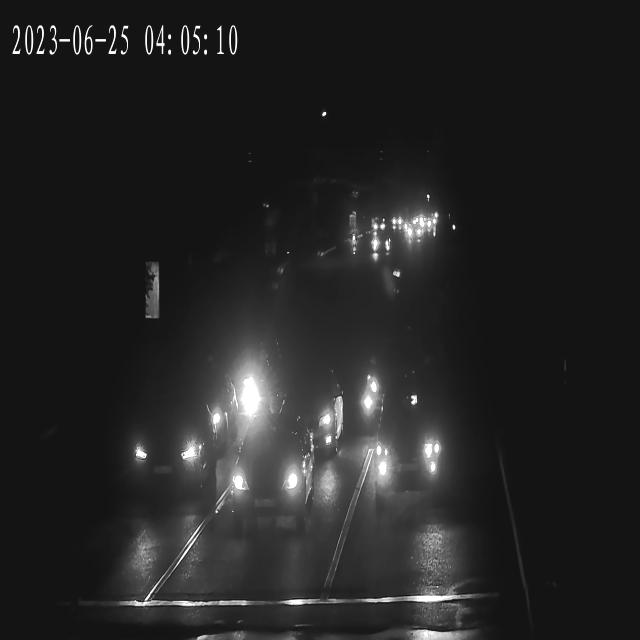Car: (117, 401, 222, 497), (228, 431, 316, 535), (370, 398, 445, 498), (208, 340, 280, 434), (280, 372, 342, 462), (322, 366, 387, 436), (371, 235, 392, 255), (403, 228, 424, 244), (388, 216, 406, 230)
